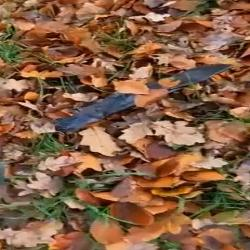Restaffald: (55, 64, 235, 132)
